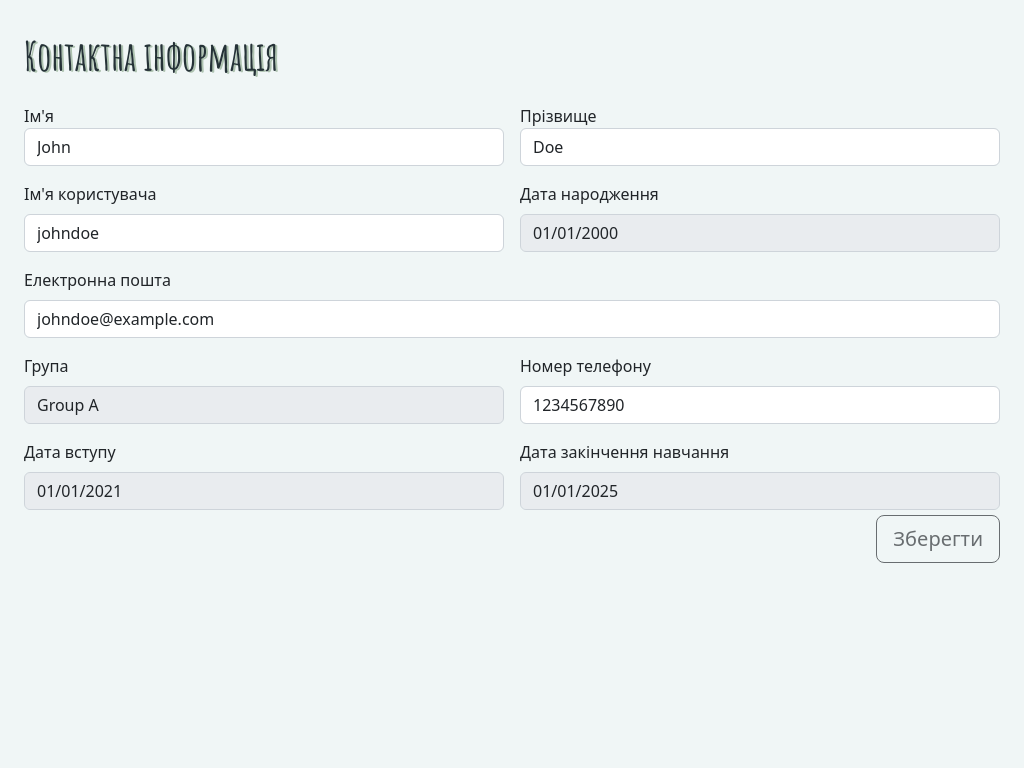
Scenario: ProfileForm › Given form submission, it should save the updated user data
Expected: the field named "Last name" is shown, [520,128,1000,166]
Expected: the field named "User name" is shown, [24,214,504,252]
Replace the text in the field named "First name" with "NewJohn": {"x": 264, "y": 147} [24,128,504,166]
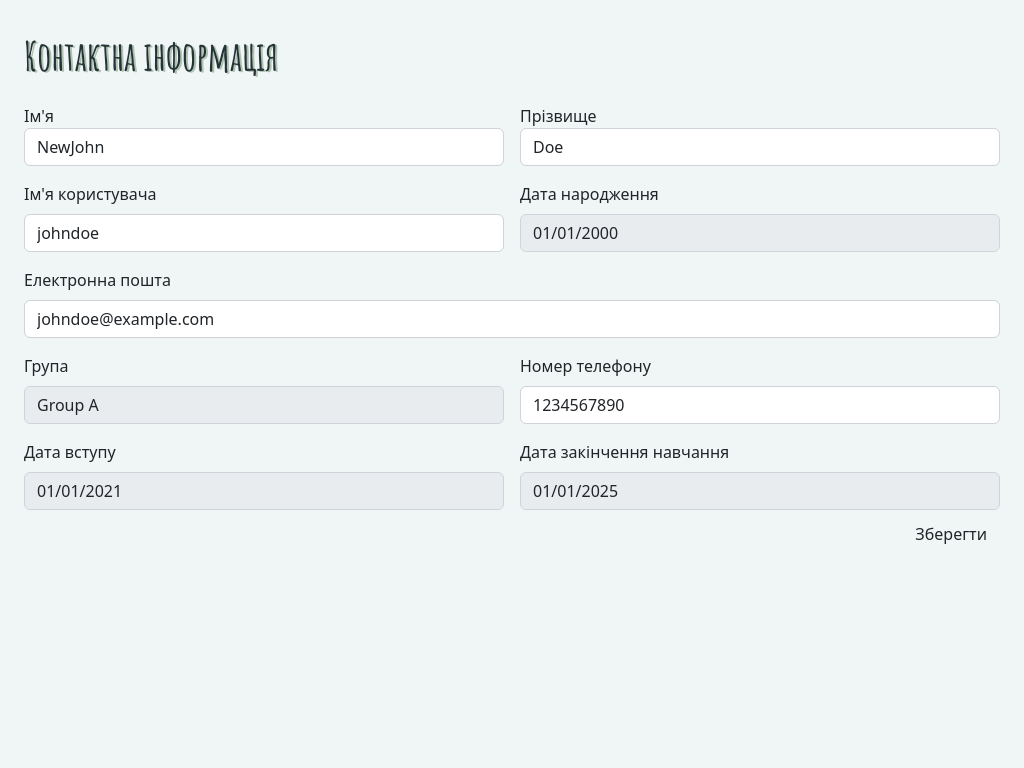
Replace the text in the field named "Last name" with "NewDoe": {"x": 760, "y": 147} [520,128,1000,166]
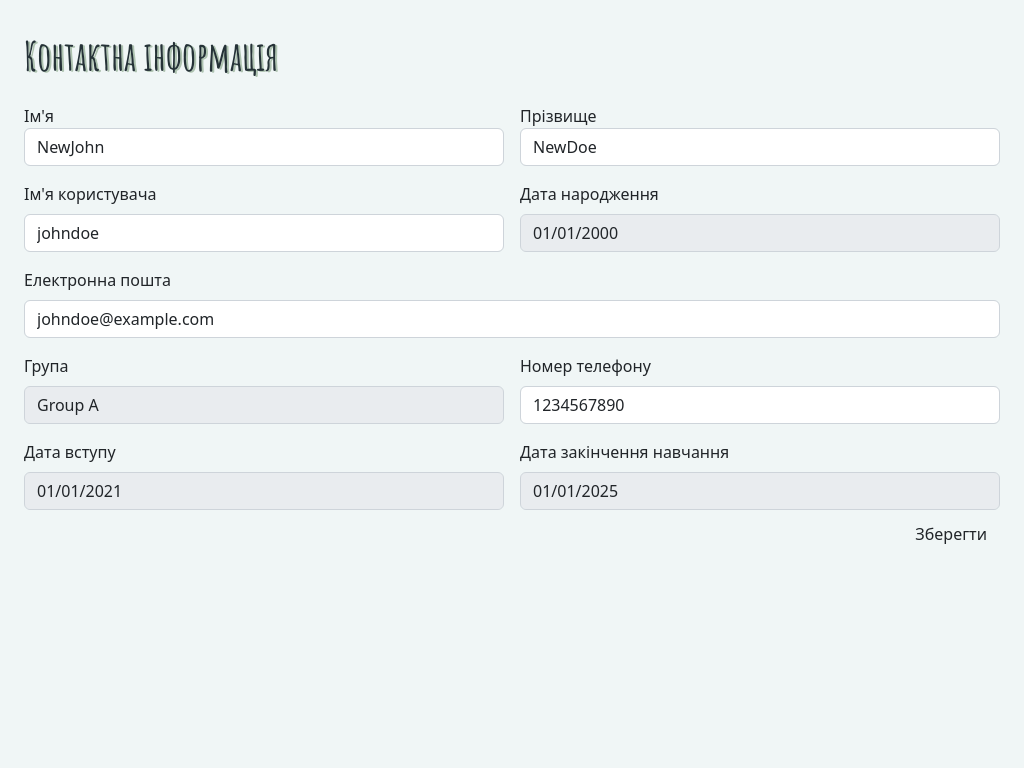
Replace the text in the field named "User name" with "Newjohndoe": {"x": 264, "y": 233} [24,214,504,252]
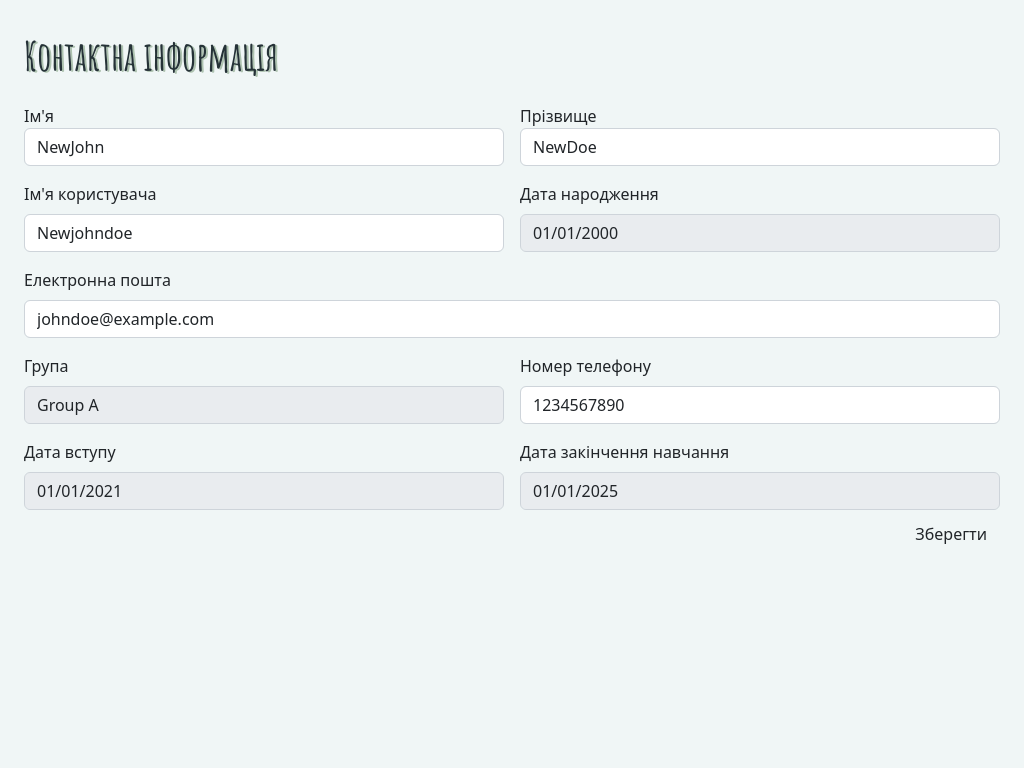
Replace the text in the field named "inputEmail4" with "newjohndoe@example.com": {"x": 512, "y": 319} [24,300,1000,338]
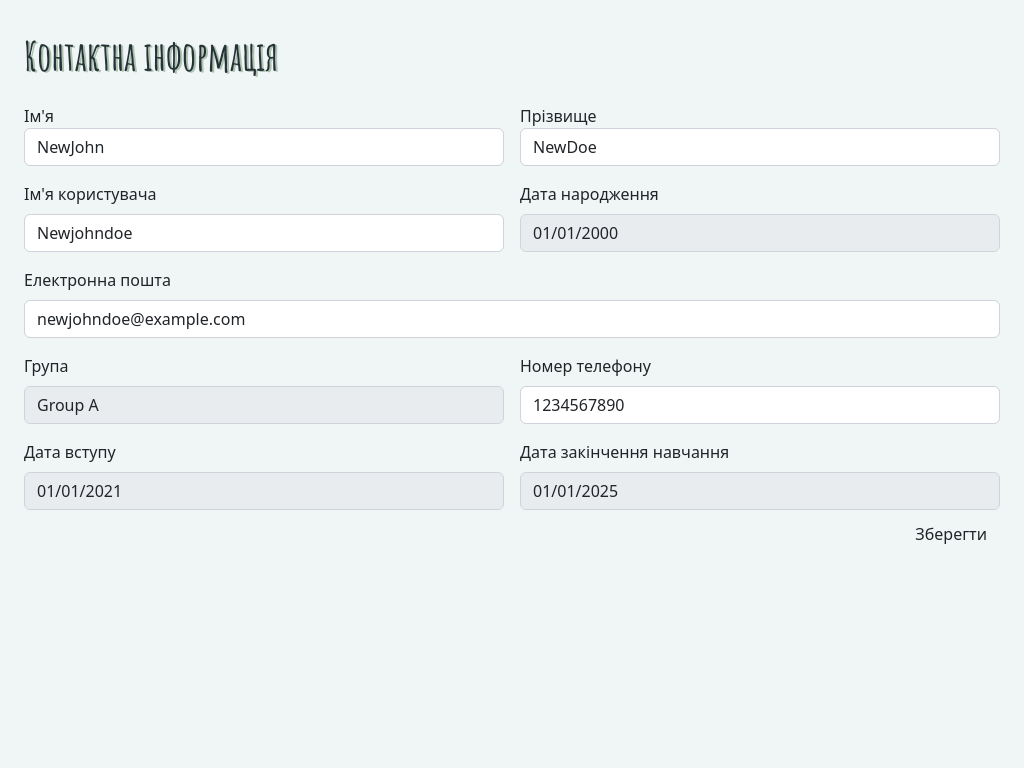
Replace the text in the field named "Phone number" with "1234567890111": {"x": 760, "y": 405} [520,386,1000,424]
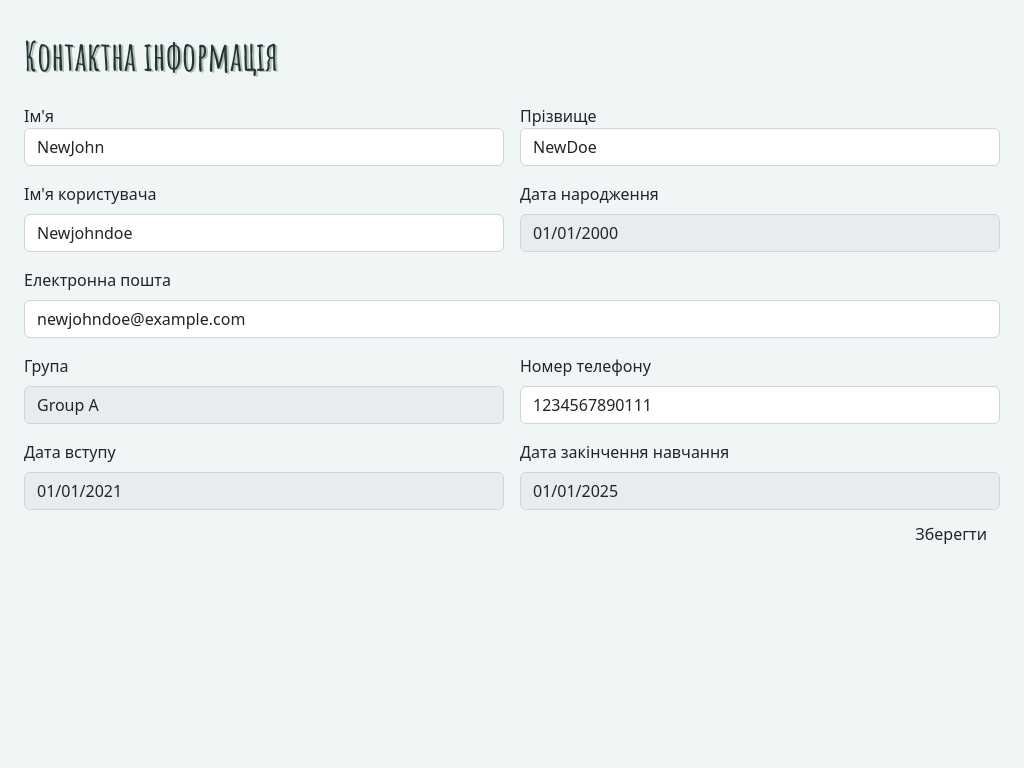
Click the button "Зберегти": {"x": 951, "y": 534} [902,515,1000,553]
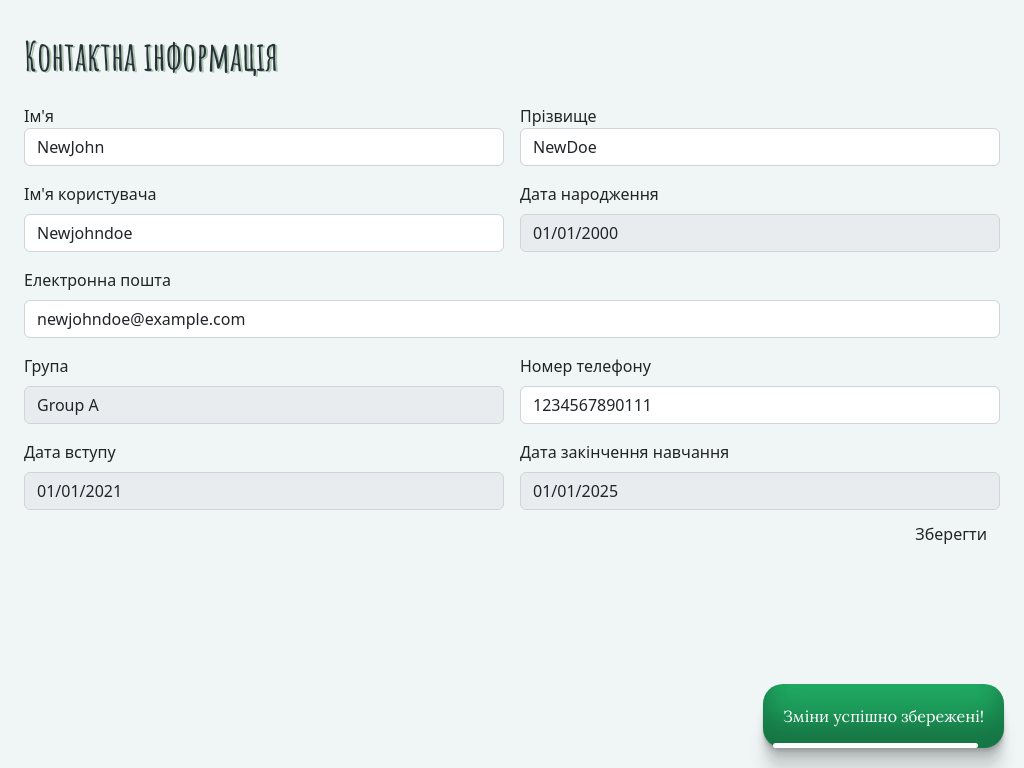
Result: the text "Зміни успішно збережені!" is shown at [763,684,1004,748]
